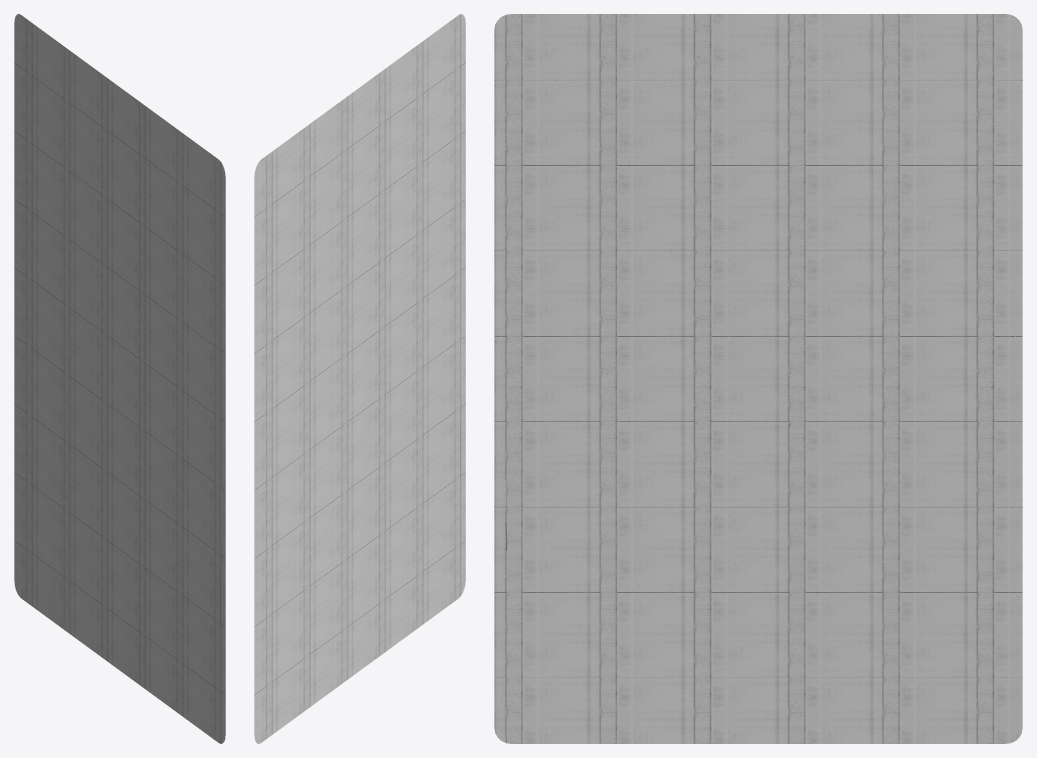
3 views of the same model, side by side, from view 1: azimuth 30°, elevation 25°; view 2: azimuth 150°, elevation 25°; view 3: azimuth 270°, elevation 25° (orthographic). The views are drawn at different scales.
Visible parts, largest first — view 1: S_C_01_01_R.001; view 2: S_C_01_01_R.001; view 3: S_C_01_01_R.001.
Part boxes in pixels (x1,y1,x2,y2): S_C_01_01_R.001: (14,14,225,743); S_C_01_01_R.001: (254,14,465,743); S_C_01_01_R.001: (494,14,1022,743).
Size of the model in its own units: 0 by 29.28 by 44.66.
